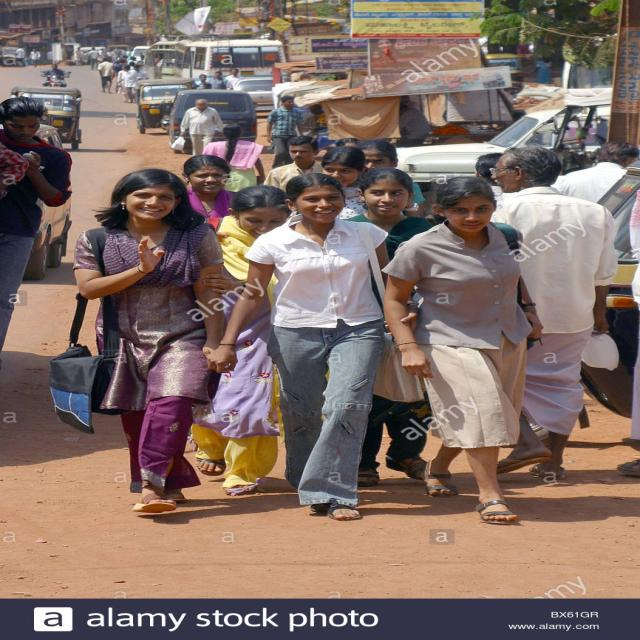body: (61, 46, 640, 342), (214, 170, 424, 526), (38, 163, 230, 525), (377, 173, 548, 528), (485, 144, 621, 479), (186, 183, 294, 496), (336, 165, 439, 489), (0, 96, 75, 354), (555, 140, 640, 204), (202, 122, 268, 192), (181, 154, 240, 218), (262, 135, 328, 192), (170, 98, 226, 156), (266, 95, 304, 170), (40, 63, 70, 88), (97, 57, 116, 94), (116, 64, 131, 104), (223, 68, 246, 90), (208, 71, 234, 90), (86, 46, 100, 72), (14, 46, 26, 68), (28, 48, 41, 68), (72, 46, 84, 66)
